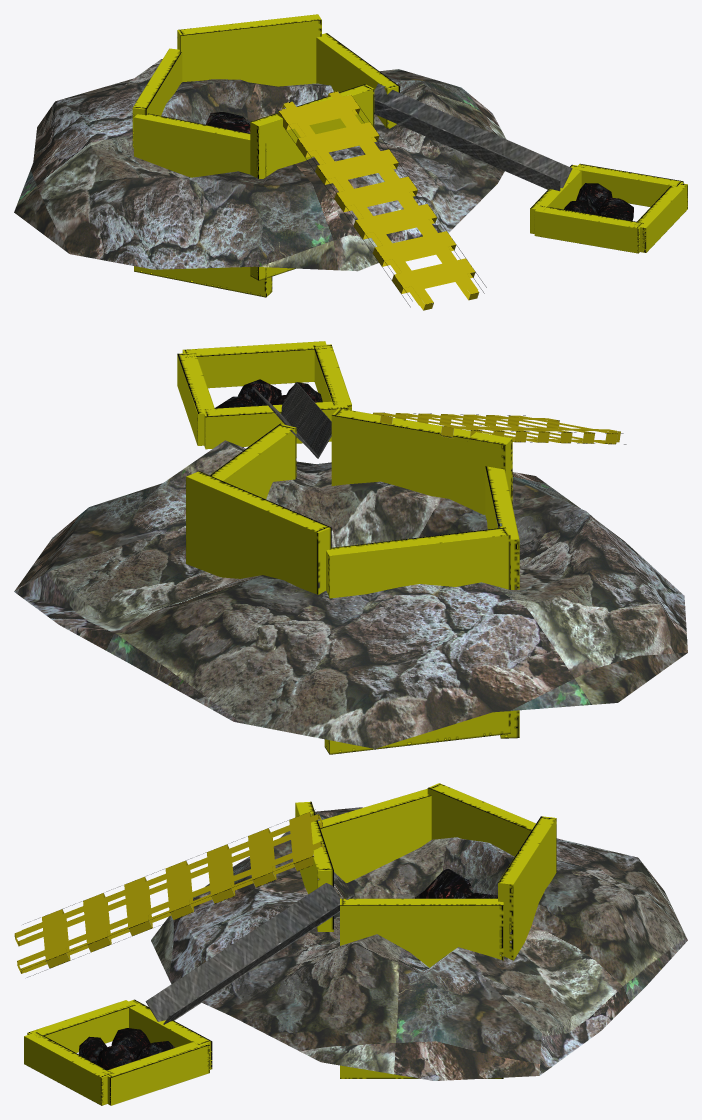
Rendered from coal_mine_lod2.fbx.
3 views of the same model, one above another, from view 1: azimuth 30°, elevation 25°; view 2: azimuth 150°, elevation 25°; view 3: azimuth 270°, elevation 25° (orthographic). The views are drawn at different scales.
Parts seen in each view (by area): view 1: coal_mine_mesh; view 2: coal_mine_mesh; view 3: coal_mine_mesh.
Boxes of the visible parts, x1,y1,x2,y2 form: coal_mine_mesh: (14, 14, 687, 310); coal_mine_mesh: (14, 341, 687, 754); coal_mine_mesh: (14, 783, 687, 1105).
Bounding box in the file's own units: 20.44 × 6.96 × 21.01.
